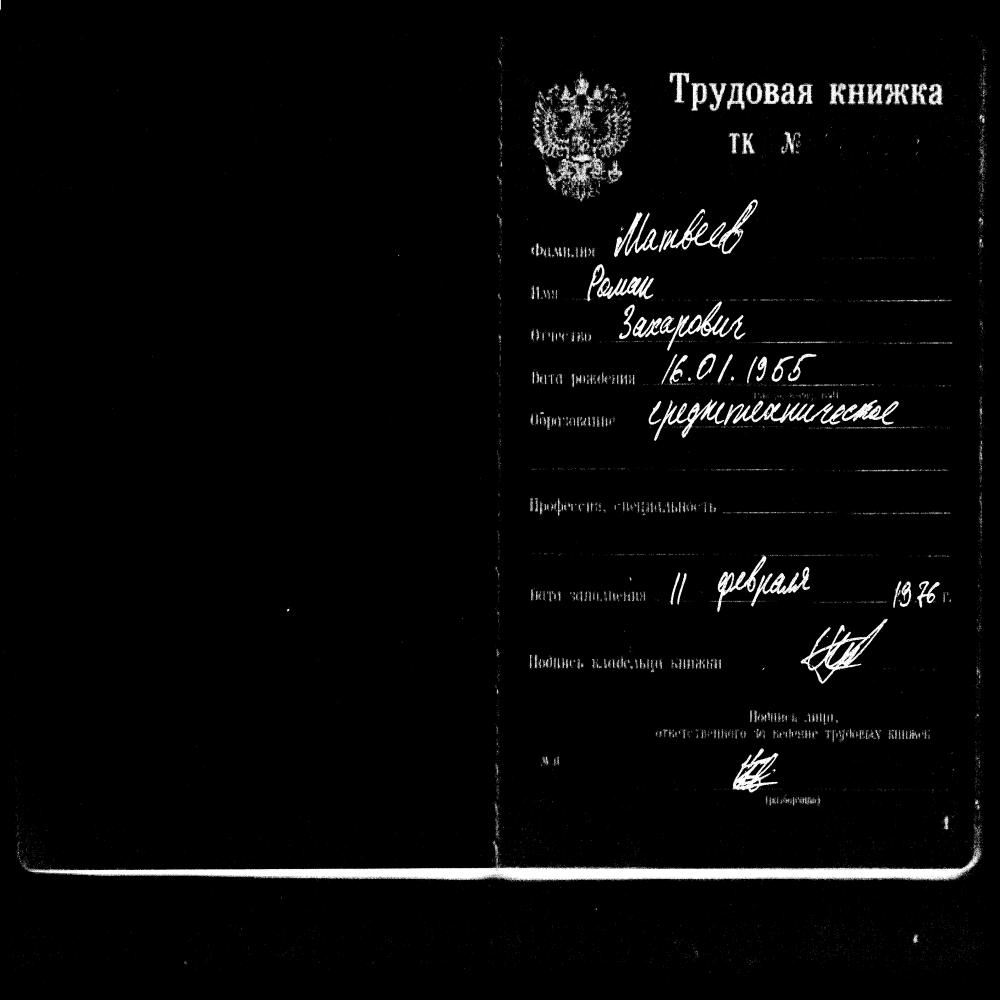rus: (670, 66, 941, 110), (642, 392, 903, 437), (620, 198, 754, 259), (624, 302, 755, 345), (716, 561, 816, 603), (891, 568, 946, 623), (594, 260, 654, 307), (745, 354, 818, 384), (651, 567, 696, 614), (648, 352, 693, 389), (700, 355, 729, 388)
